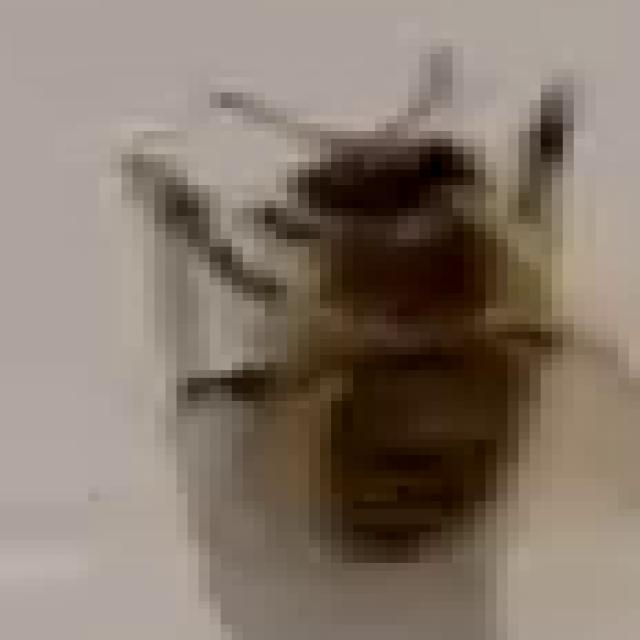honeybee: (177, 58, 600, 582)
